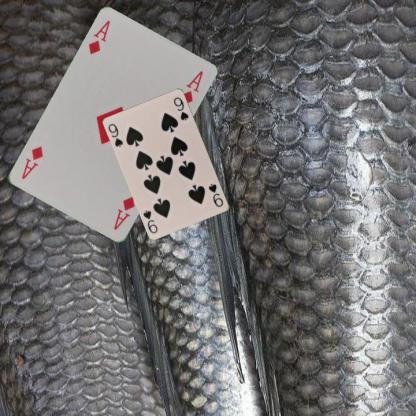9s: (206, 182, 225, 209), (106, 121, 124, 148)
Ad: (86, 18, 112, 56), (111, 194, 136, 232)
